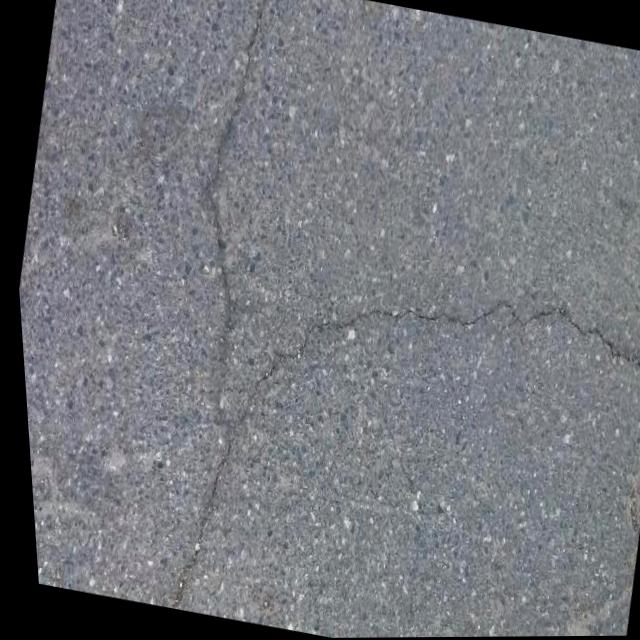Crack: (142, 231, 640, 639), (152, 0, 304, 397)
